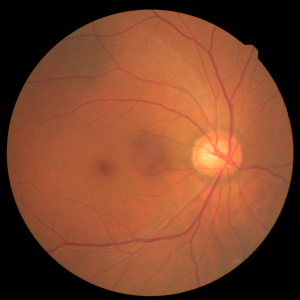glaucoma: (87, 92, 269, 210)
